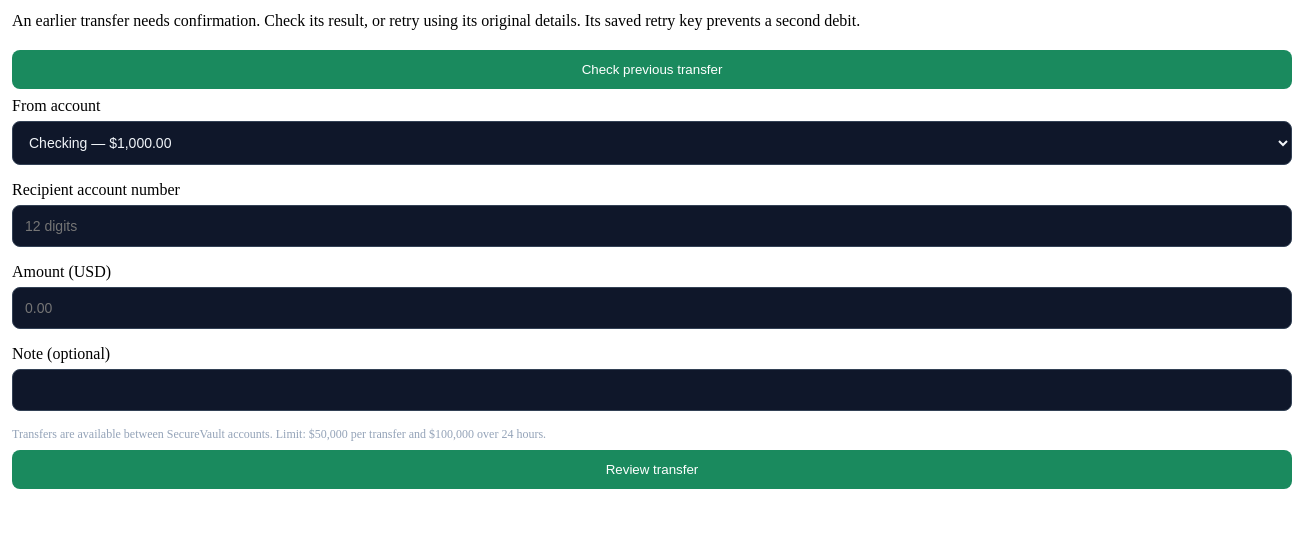
Test: Transfer authorization and stable retries › a missing result never resets the original key or silently starts another payment
The width and height of the screenshot is (1304, 536).
Click the button "Check previous transfer".
click(652, 70)  # box [12, 50, 1292, 89]
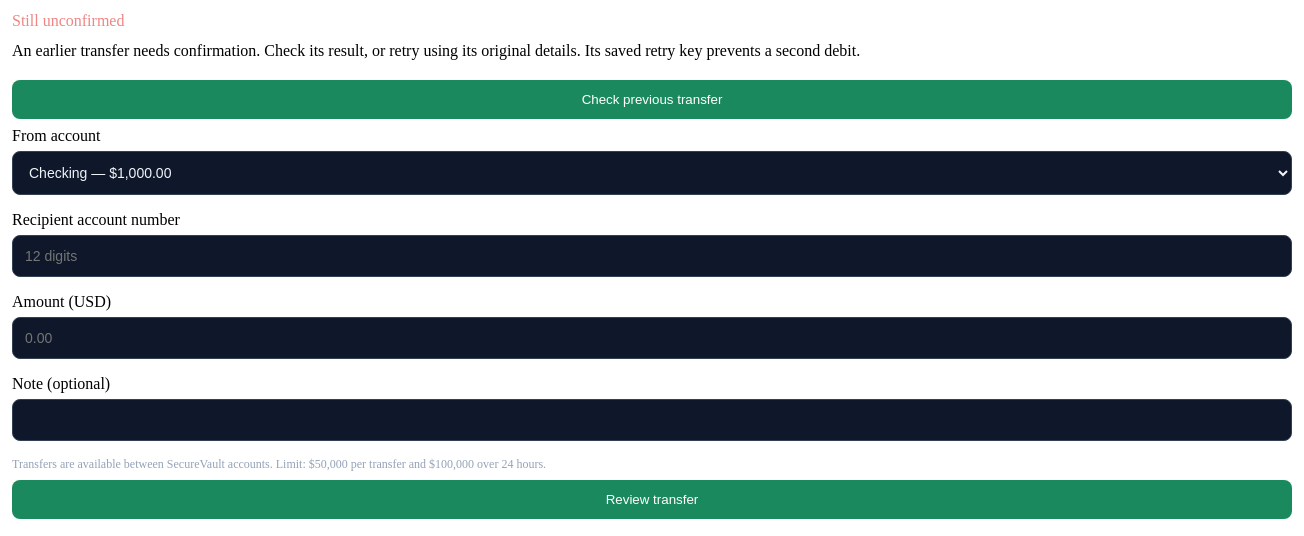
Result: the text "Still unconfirmed" is shown at [12, 12, 124, 29]
Type "123456789012" into the field labelled "Recipient account number".
click(652, 256); type("123456789012")  # box [12, 235, 1292, 277]
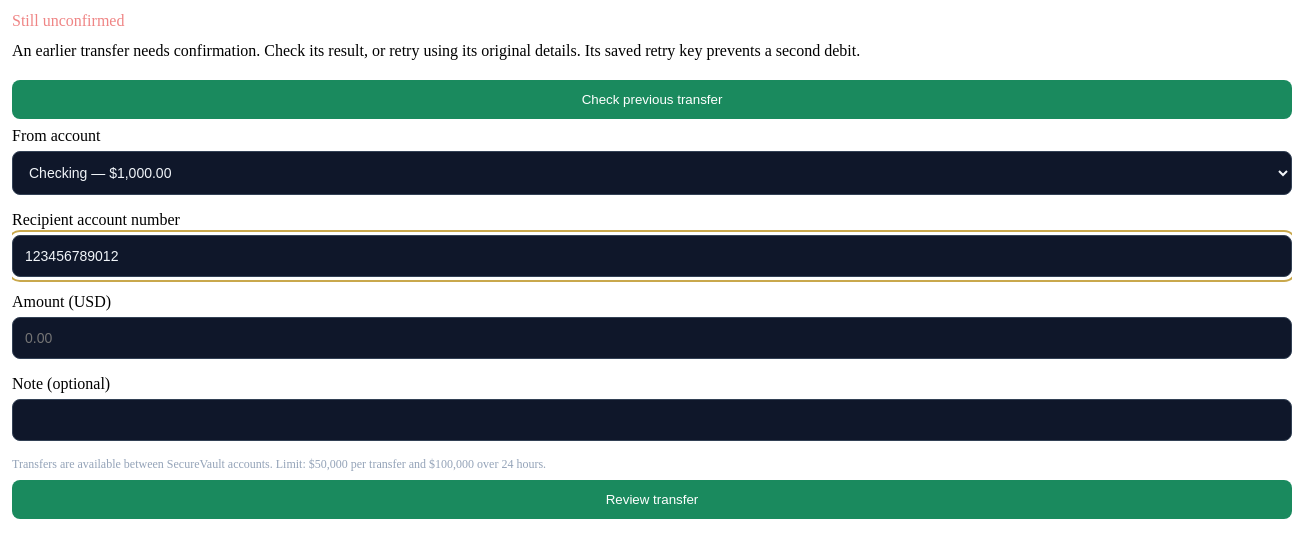
Type "19.99" into the field labelled "Amount (USD)".
click(652, 338); type("19.99")  # box [12, 317, 1292, 359]
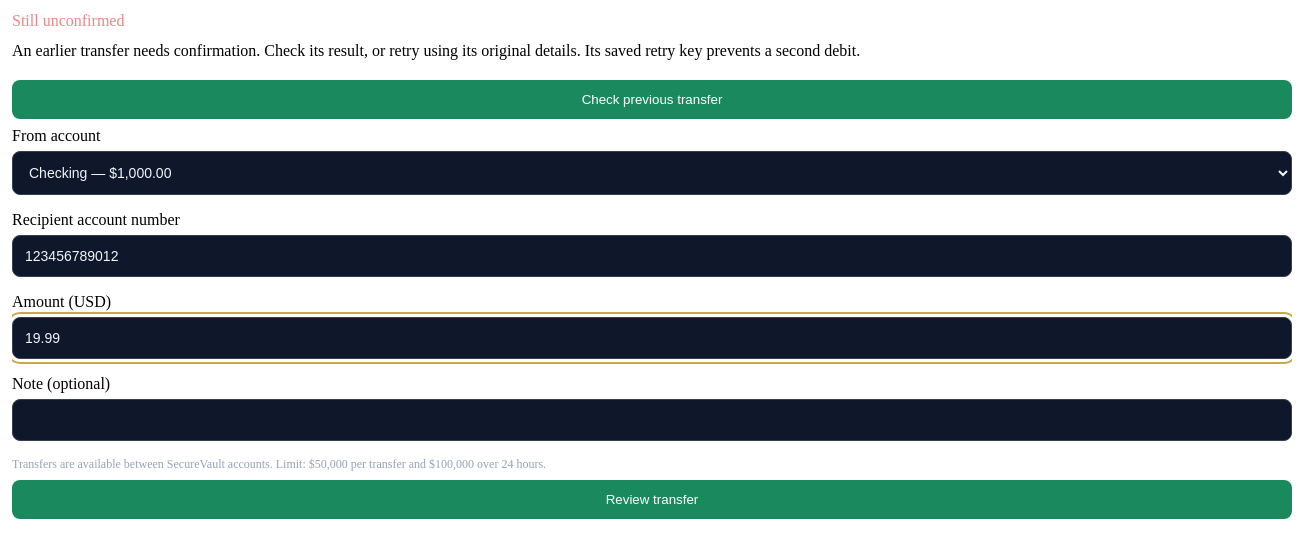
Click the button "Review transfer".
click(652, 500)  # box [12, 480, 1292, 519]
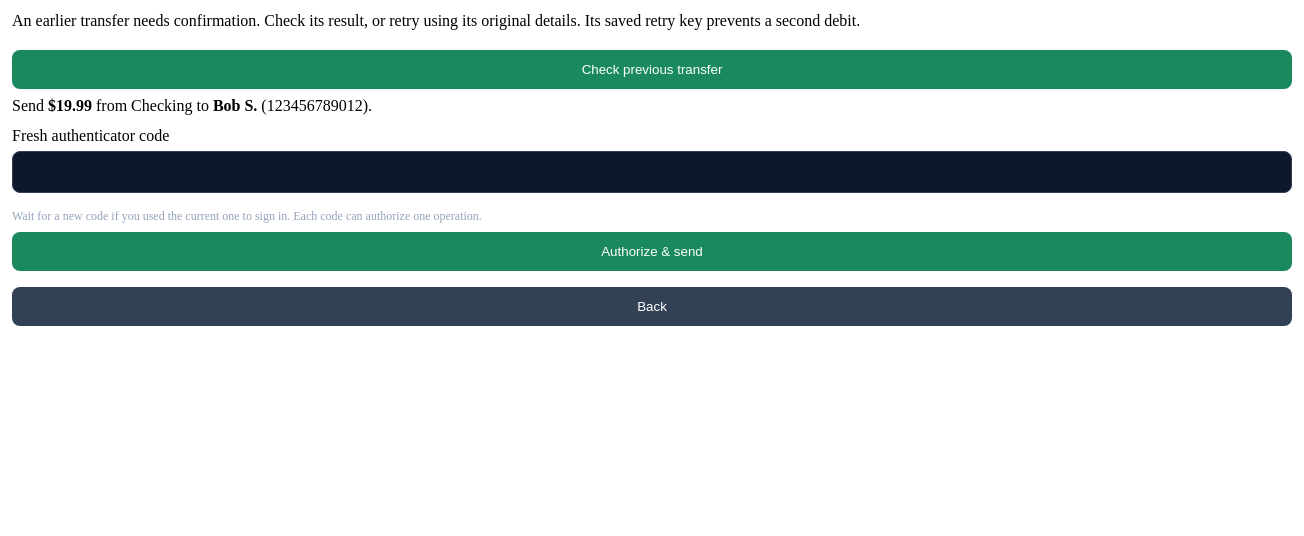
Result: the text "Bob S." is shown at [213, 97, 257, 114]
Type "123456" into the field labelled "Fresh authenticator code".
click(652, 172); type("123456")  # box [12, 151, 1292, 193]
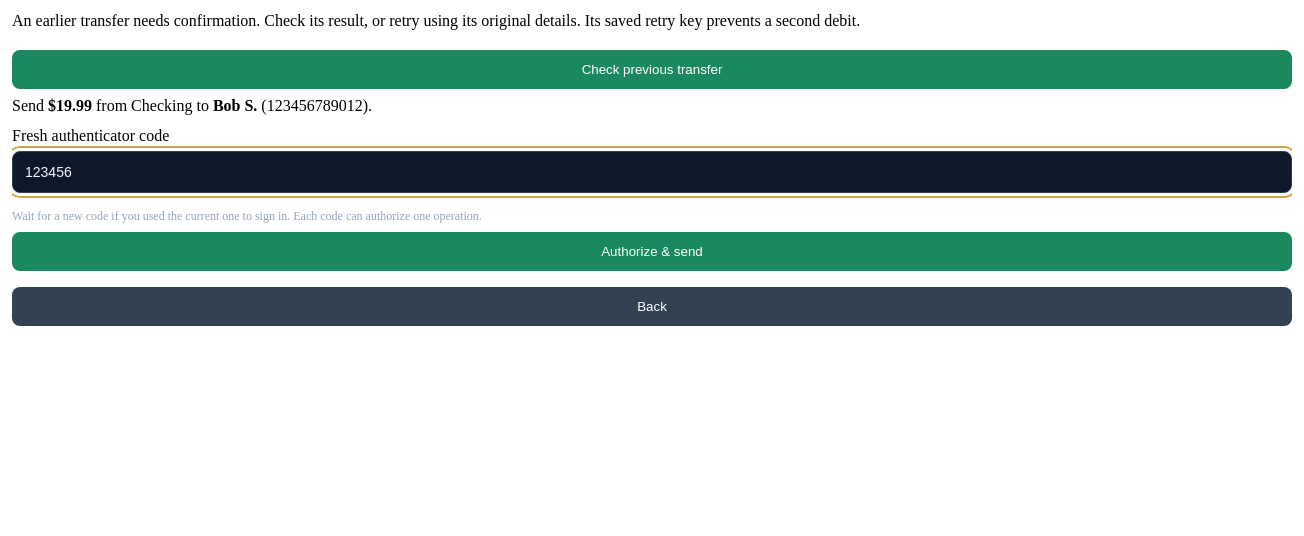
Click the button "Authorize & send".
click(652, 252)  # box [12, 232, 1292, 271]
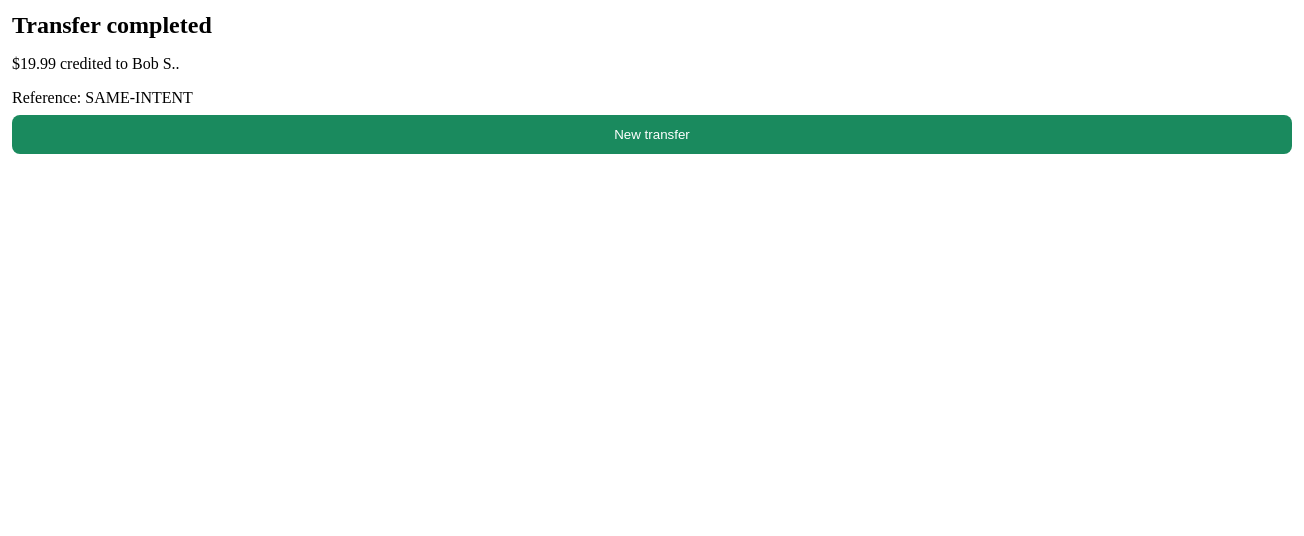
Result: the heading "Transfer completed" is shown at [12, 12, 212, 38]
